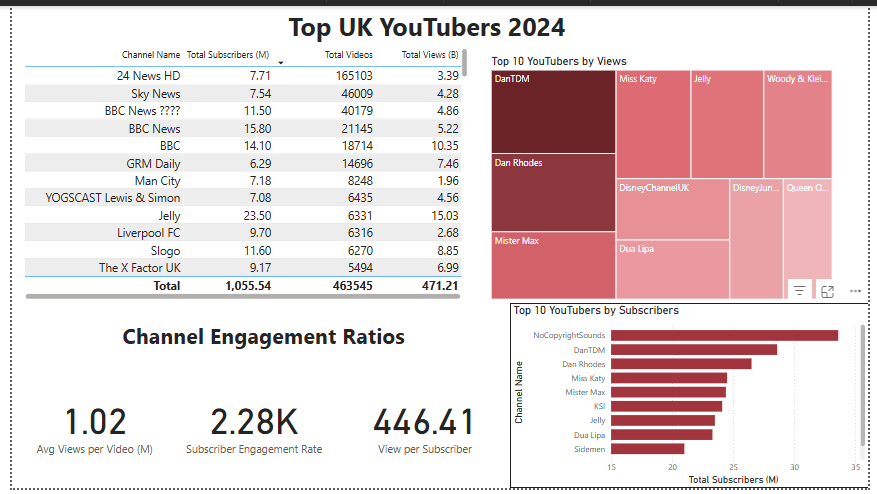

What the dashboard file says about the page in this screenshot:
{"tool":"powerbi","page":{"name":"Page 1","canvas":[1280,720],"ordinal":0},"visuals":[{"type":"textbox","box":[399.8,0,438.4,204.9],"z":0},{"type":"tableEx","fields":{"Values":["view_uk_youtubers.channel_name","view_uk_youtubers.Total Subscribers (M)","view_uk_youtubers.Total Videos","view_uk_youtubers.Total Views (B)"]},"box":[13.4,58.8,671.9,384.7],"z":1000},{"type":"treemap","title":"Top 10 YouTubers by Views","fields":{"Group":["view_uk_youtubers.channel_name"],"Values":["view_uk_youtubers.Total Views (B)"]},"box":[710.6,72.2,519.1,371.2],"z":2000},{"type":"card","fields":{"Values":["view_uk_youtubers.Avg Views per Video (M)"]},"box":[13.4,527.5,220.1,193.2],"z":3000},{"type":"card","fields":{"Values":["view_uk_youtubers.Subscriber Engagement Rate"]},"box":[233.5,527.5,257,193.2],"z":4000},{"type":"card","fields":{"Values":["view_uk_youtubers.View per Subscriber"]},"box":[490.5,527.5,253.6,193.2],"z":5000},{"type":"clusteredBarChart","title":"Top 10 YouTubers by Subscribers","fields":{"Category":["view_uk_youtubers.channel_name"],"Y":["view_uk_youtubers.Total Subscribers (M)"]},"box":[744.1,443.5,535.9,277.2],"z":6000},{"type":"textbox","box":[151.2,465.3,450.2,62.2],"z":7000}]}

Visuals, with their boxes in screenshot pixels (x1, y1, x2, y2), scaled from the page's 1280x720 canvas onto the 877x494 screenshot:
textbox: <region>274, 0, 574, 141</region>
tableEx - view_uk_youtubers.channel_name x view_uk_youtubers.Total Subscribers (M): <region>9, 40, 470, 304</region>
"Top 10 YouTubers by Views" treemap: <region>487, 50, 843, 304</region>
card - view_uk_youtubers.Avg Views per Video (M): <region>9, 362, 160, 493</region>
card - view_uk_youtubers.Subscriber Engagement Rate: <region>160, 362, 336, 493</region>
card - view_uk_youtubers.View per Subscriber: <region>336, 362, 510, 493</region>
"Top 10 YouTubers by Subscribers" clusteredBarChart: <region>510, 304, 876, 493</region>
textbox: <region>104, 319, 412, 362</region>
